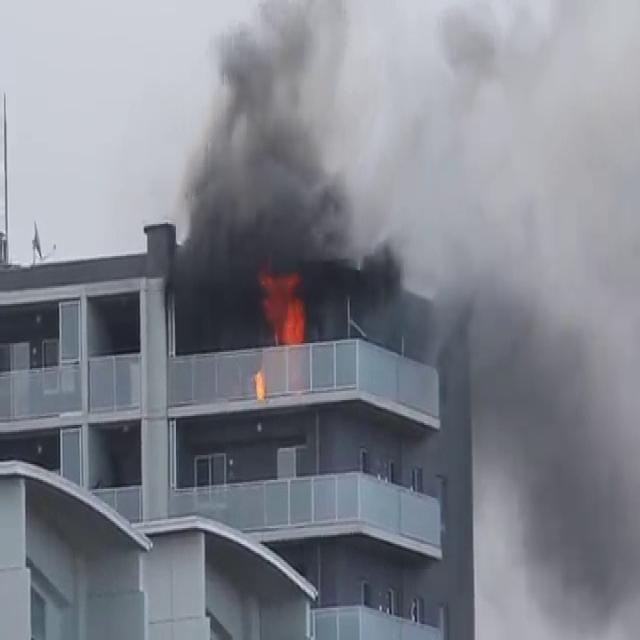Smoke: (152, 0, 640, 372), (398, 0, 640, 629)
